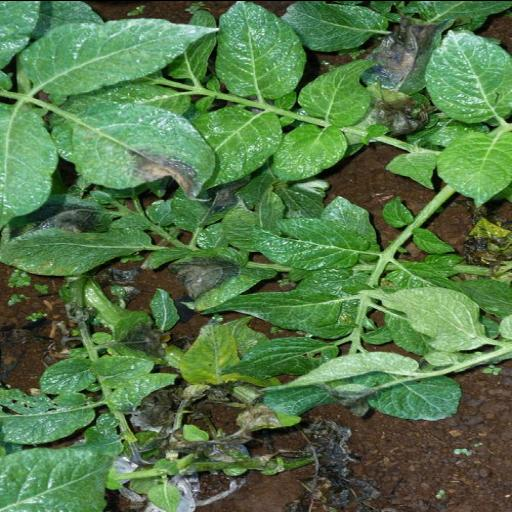Late Blight: (49, 90, 211, 212), (0, 207, 156, 278), (353, 17, 451, 99), (164, 242, 278, 310)
